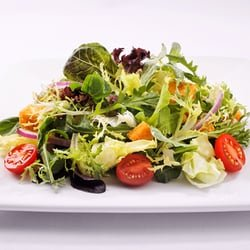sandwich: (1, 36, 249, 191)
